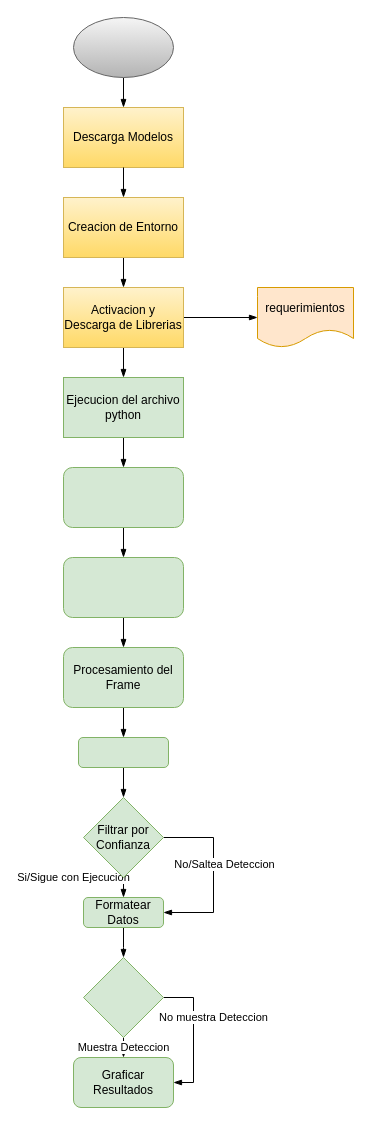
This 371x1125 diagram has some shape labels left out. The centre of each missing label's shape, as x and y in pixels:
Filtrar de Acuerdo al Area: pixel 123 997
Make Run: pixel 123 47
Obtencion del Area Deseada: pixel 123 587
Obtencion del Frame: pixel 123 497
Redimension: pixel 123 752
